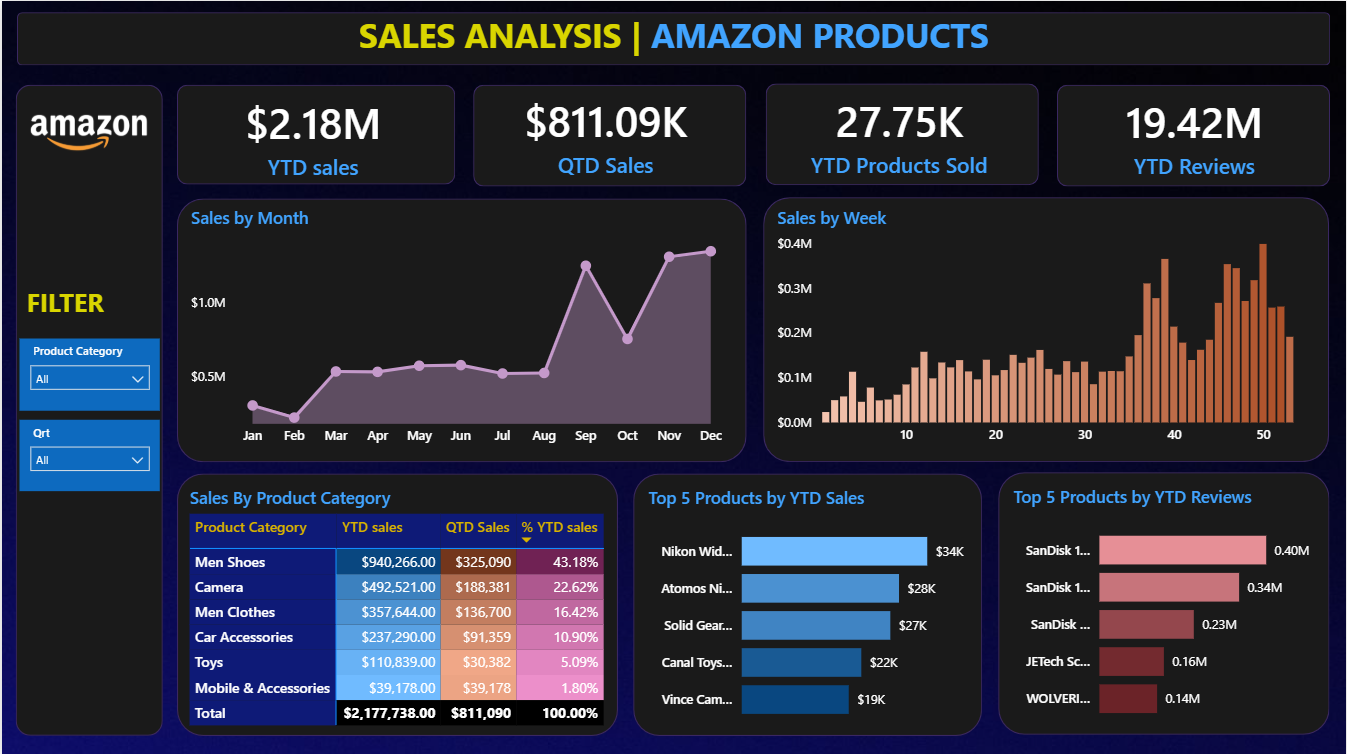

The page's visual inventory and layout, read from the dashboard file:
{"tool":"powerbi","page":{"name":"Page 1","canvas":[1280,720],"ordinal":0},"visuals":[{"type":"shape","box":[13.8,10.8,1250.8,50.8],"z":0},{"type":"shape","box":[166.2,187.5,542.5,251.2],"z":1000},{"type":"shape","box":[166.2,80,265,95],"z":2000},{"type":"areaChart","title":"Sales by Month","fields":{"Category":["Date Table.Month Name"],"Y":["Sum(Amazon_Data.Price(Dollar))"]},"box":[175.6,195.1,521.1,236.7],"z":3000},{"type":"textbox","box":[329.2,6.2,620,55.4],"z":4000},{"type":"shape","box":[725.6,187.4,538.9,252.2],"z":5000},{"type":"shape","box":[449.2,80,260,96.9],"z":6000},{"type":"columnChart","title":"Sales by Week","fields":{"Category":["Date Table.Week Number"],"Y":["Sum(Amazon_Data.Price(Dollar))"]},"box":[733.6,194.9,522.7,236.4],"z":7000},{"type":"shape","box":[13.5,80,140,620],"z":8000},{"type":"shape","box":[726.9,78.5,260,96.9],"z":9000},{"type":"card","fields":{"Values":["Amazon_Data.YTD sales"]},"box":[175.4,81.5,243.1,95.4],"z":10000},{"type":"shape","box":[1004.6,80,260,96.9],"z":11000},{"type":"card","fields":{"Values":["Amazon_Data.QTD Sales"]},"box":[453.8,80,243.1,93.8],"z":12000},{"type":"card","fields":{"Values":["Amazon_Data.YTD Products Sold"]},"box":[733.8,80,243.1,93.8],"z":13000},{"type":"card","fields":{"Values":["Amazon_Data.YTD Reviews"]},"box":[1013.8,81.5,243.1,93.8],"z":14000},{"type":"shape","box":[166.2,450,420,250],"z":15000},{"type":"shape","box":[601.5,450,332.2,250],"z":16000},{"type":"pivotTable","title":"Sales By Product Category","fields":{"Rows":["Amazon_Data.Product Category"],"Values":["Amazon_Data.YTD sales1","Amazon_Data.QTD Sales","Amazon_Data.YTD sales"]},"box":[173.3,461.3,413.3,237.3],"z":17000},{"type":"clusteredBarChart","title":"Top 5 Products by YTD Sales","fields":{"Category":["Amazon_Data.Product Description"],"Y":["Amazon_Data.YTD sales"]},"box":[610.7,461.3,322.7,237.3],"z":18000},{"type":"shape","box":[948.9,448.9,315.6,250],"z":19000},{"type":"clusteredBarChart","title":"Top 5 Products by YTD Reviews","fields":{"Category":["Amazon_Data.Product Description"],"Y":["Amazon_Data.YTD Reviews"]},"box":[957.8,461.1,297.8,237.8],"z":20000},{"type":"slicer","fields":{"Values":["Amazon_Data.Product Category"]},"box":[16.2,321.2,133.8,68.8],"z":21000},{"type":"slicer","fields":{"Values":["Date Table.Qrt"]},"box":[16.4,399.1,133.6,68.2],"z":22000},{"type":"image","box":[20.6,104.1,127.1,50.6],"z":23000},{"type":"textbox","box":[14,266,92,46],"z":24000}]}

Visuals, with their boxes in screenshot pixels (x1, y1, x2, y2), scaled from the page's 1280x720 canvas onto the 1347x754 screenshot:
shape: (left=15, top=11, right=1331, bottom=65)
shape: (left=175, top=196, right=746, bottom=459)
shape: (left=175, top=84, right=454, bottom=183)
"Sales by Month" areaChart: (left=185, top=204, right=733, bottom=452)
textbox: (left=346, top=6, right=999, bottom=65)
shape: (left=764, top=196, right=1331, bottom=460)
shape: (left=473, top=84, right=746, bottom=185)
"Sales by Week" columnChart: (left=772, top=204, right=1322, bottom=452)
shape: (left=14, top=84, right=162, bottom=733)
shape: (left=765, top=82, right=1039, bottom=184)
card - Amazon_Data.YTD sales: (left=185, top=85, right=440, bottom=185)
shape: (left=1057, top=84, right=1331, bottom=185)
card - Amazon_Data.QTD Sales: (left=478, top=84, right=733, bottom=182)
card - Amazon_Data.YTD Products Sold: (left=772, top=84, right=1028, bottom=182)
card - Amazon_Data.YTD Reviews: (left=1067, top=85, right=1323, bottom=184)
shape: (left=175, top=471, right=617, bottom=733)
shape: (left=633, top=471, right=983, bottom=733)
"Sales By Product Category" pivotTable: (left=182, top=483, right=617, bottom=732)
"Top 5 Products by YTD Sales" clusteredBarChart: (left=643, top=483, right=982, bottom=732)
shape: (left=999, top=470, right=1331, bottom=732)
"Top 5 Products by YTD Reviews" clusteredBarChart: (left=1008, top=483, right=1321, bottom=732)
slicer - Amazon_Data.Product Category: (left=17, top=336, right=158, bottom=408)
slicer - Date Table.Qrt: (left=17, top=418, right=158, bottom=489)
image: (left=22, top=109, right=155, bottom=162)
textbox: (left=15, top=279, right=112, bottom=327)
